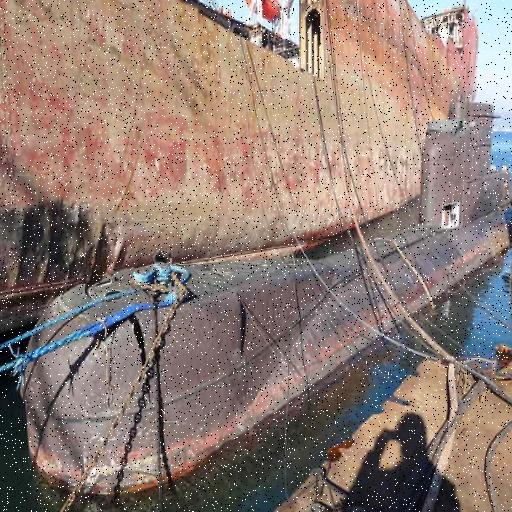submarine: (25, 101, 512, 494)
